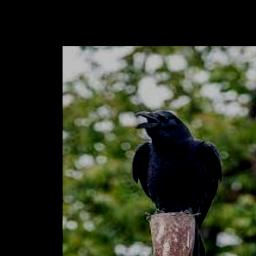Crow: (131, 110, 222, 256)
